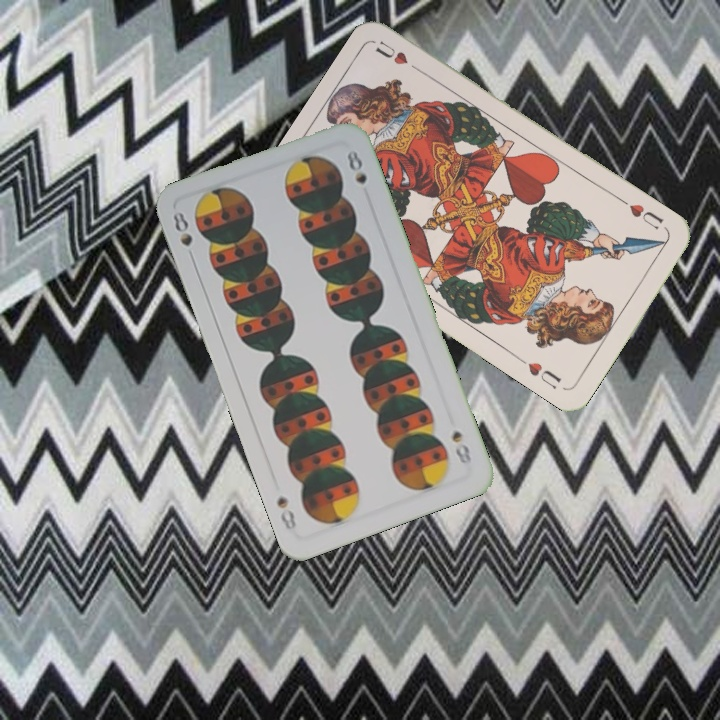HU: (618, 195, 666, 233)
S8: (166, 208, 196, 249), (447, 426, 474, 466)
